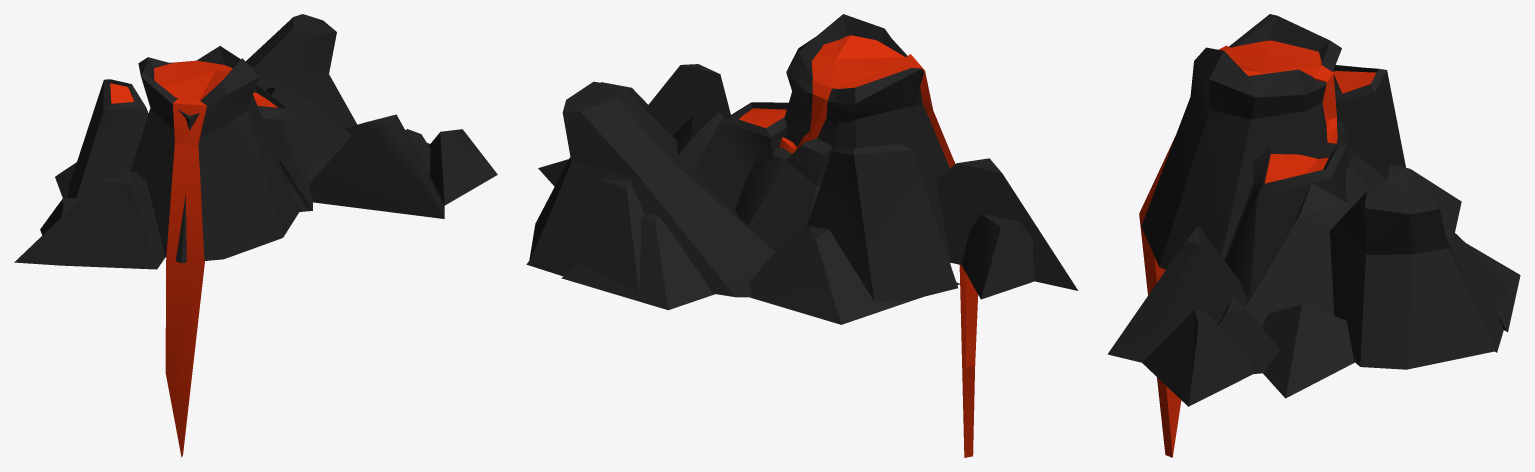
The model's file is e_volcano.fbx.
The picture shows the model from 3 angles, left to right: view 1: azimuth 30°, elevation 25°; view 2: azimuth 150°, elevation 25°; view 3: azimuth 270°, elevation 25°; orthographic projection. The views are drawn at different scales.
Parts seen in each view (by area): view 1: e_volcano; view 2: e_volcano; view 3: e_volcano.
Part boxes in pixels (bbox=[...]): e_volcano: bbox=[14, 14, 497, 457]; e_volcano: bbox=[526, 14, 1078, 457]; e_volcano: bbox=[1107, 14, 1520, 457].
Bounding box in the file's own units: 300 × 229 × 188.
